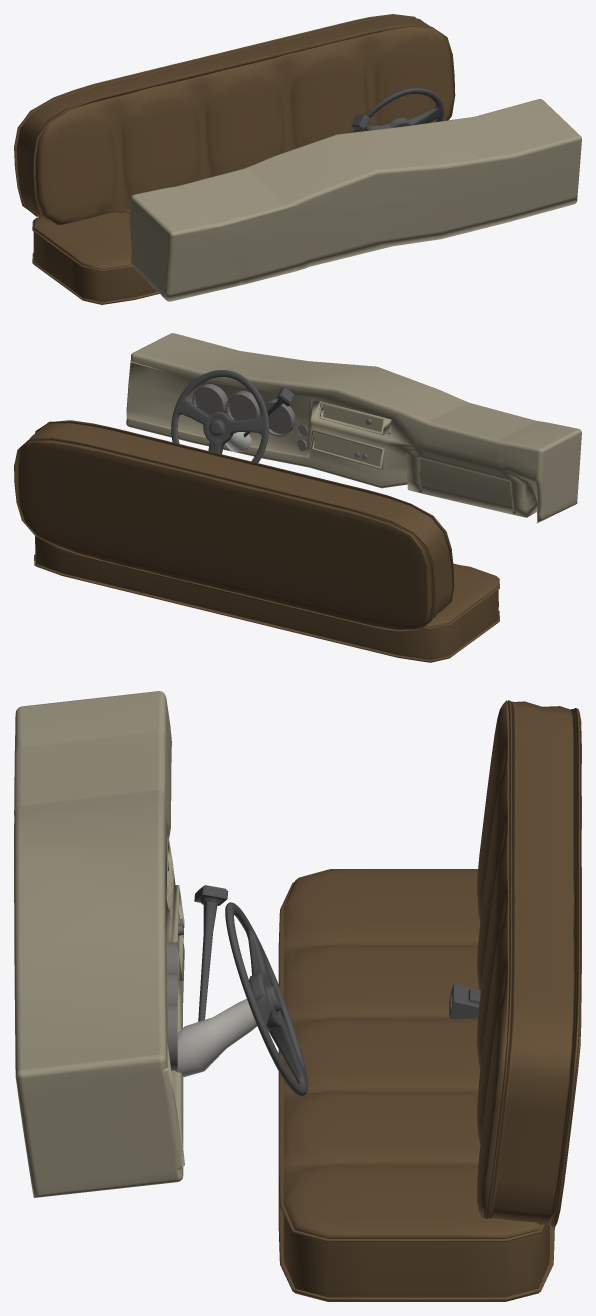
File: TruckInterior.fbx
3 views of the same model, one above another, from view 1: azimuth 30°, elevation 25°; view 2: azimuth 150°, elevation 25°; view 3: azimuth 270°, elevation 25° (orthographic). The views are drawn at different scales.
Parts seen in each view (by area): view 1: TruckInterior1:DashBoardTruckInterior, TruckInterior1:TruckInteriorTopSeat, TruckInterior1:TruckInteriorBottomSeat, TruckInterior1:TruckInteriorSteeringWheel; view 2: TruckInterior1:TruckInteriorTopSeat, TruckInterior1:DashBoardTruckInterior, TruckInterior1:TruckInteriorBottomSeat, TruckInterior1:TruckInteriorSteeringWheel, TruckInterior1:TruckInteriorMeter3, TruckInterior1:TruckInteriorMeter4, TruckInterior1:TruckInteriorMeter5; view 3: TruckInterior1:TruckInteriorBottomSeat, TruckInterior1:DashBoardTruckInterior, TruckInterior1:TruckInteriorTopSeat, TruckInterior1:TruckInteriorSteeringWheel, TruckInterior1:TruckInteriorSteeringWheelBar, TruckInterior1:TruckInteriorGearShift, TruckInterior1:TruckInteriorSeatBelt.
Boxes of the visible parts, bbox=[...] form: TruckInterior1:DashBoardTruckInterior: bbox=[129, 99, 581, 301]; TruckInterior1:TruckInteriorTopSeat: bbox=[14, 14, 455, 225]; TruckInterior1:TruckInteriorBottomSeat: bbox=[32, 209, 159, 304]; TruckInterior1:TruckInteriorSteeringWheel: bbox=[353, 88, 443, 132]; TruckInterior1:TruckInteriorTopSeat: bbox=[14, 420, 454, 631]; TruckInterior1:DashBoardTruckInterior: bbox=[126, 333, 581, 523]; TruckInterior1:TruckInteriorBottomSeat: bbox=[34, 536, 499, 662]; TruckInterior1:TruckInteriorSteeringWheel: bbox=[171, 370, 268, 462]; TruckInterior1:TruckInteriorMeter3: bbox=[192, 383, 227, 414]; TruckInterior1:TruckInteriorMeter4: bbox=[226, 391, 260, 420]; TruckInterior1:TruckInteriorMeter5: bbox=[260, 399, 295, 436]; TruckInterior1:TruckInteriorBottomSeat: bbox=[278, 869, 554, 1301]; TruckInterior1:DashBoardTruckInterior: bbox=[14, 691, 184, 1197]; TruckInterior1:TruckInteriorTopSeat: bbox=[477, 700, 581, 1227]; TruckInterior1:TruckInteriorSteeringWheel: bbox=[225, 902, 308, 1095]; TruckInterior1:TruckInteriorSteeringWheelBar: bbox=[175, 999, 257, 1077]; TruckInterior1:TruckInteriorGearShift: bbox=[194, 885, 228, 1021]; TruckInterior1:TruckInteriorSeatBelt: bbox=[449, 983, 480, 1018].
Bounding box in the file's own units: 5.22 × 1.9 × 3.38.
